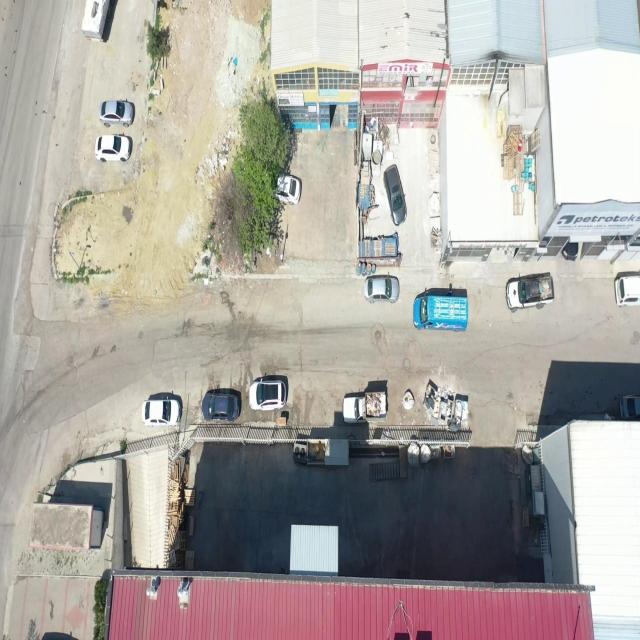p3rson: (446, 287, 452, 296)
